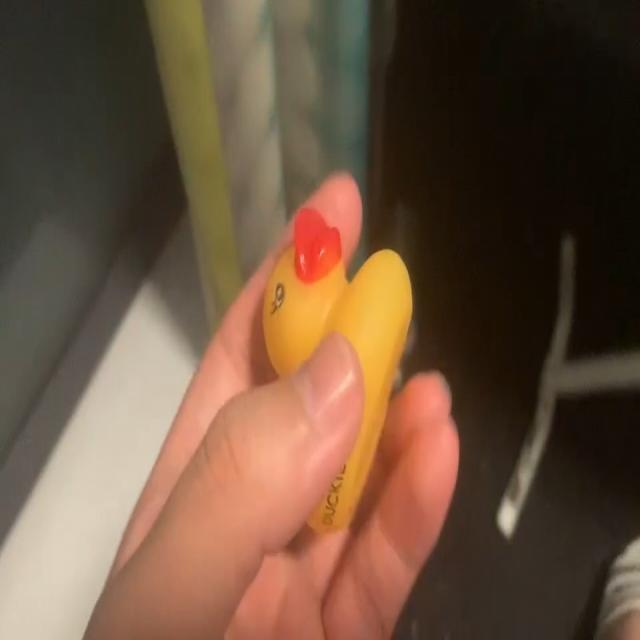rubber-duck: (262, 207, 410, 528)
